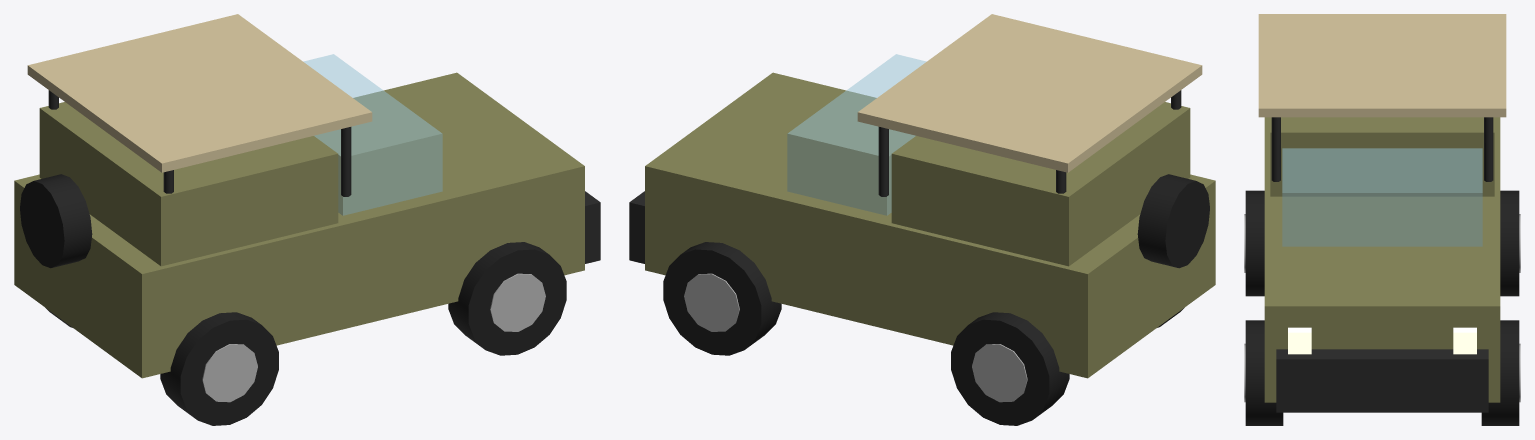
Rendered from safari_jeep.glb.
3 views of the same model, side by side, from view 1: azimuth 30°, elevation 25°; view 2: azimuth 150°, elevation 25°; view 3: azimuth 270°, elevation 25° (orthographic). The views are drawn at different scales.
Parts seen in each view (by area): view 1: Safari jeep; view 2: Safari jeep; view 3: Safari jeep.
Boxes of the visible parts, x1,y1,x2,y2 form: Safari jeep: (14,14,600,425); Safari jeep: (629,14,1215,425); Safari jeep: (1244,14,1520,425).
Bounding box in the file's own units: 4.53 × 2.34 × 2.34.
